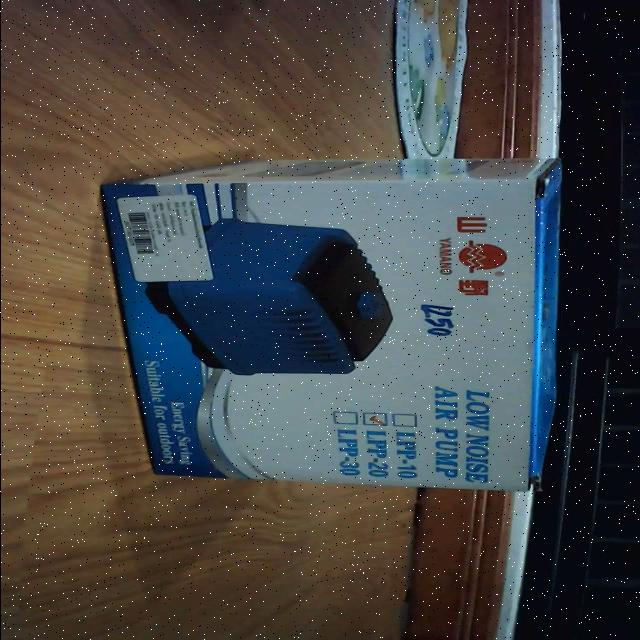YAMANO_LPP_20: (94, 150, 580, 498)
